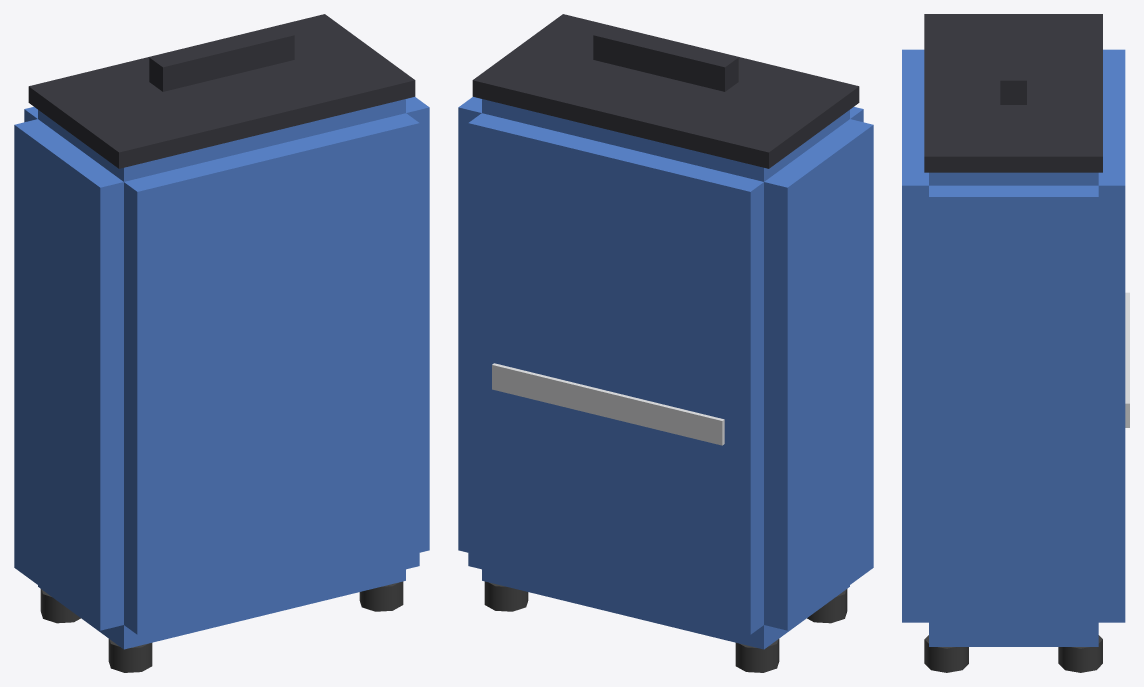
The model's file is suitcase_blue.glb.
3 renders of one model, left to right at view 1: azimuth 30°, elevation 25°; view 2: azimuth 150°, elevation 25°; view 3: azimuth 270°, elevation 25°, orthographic.
Parts seen in each view (by area): view 1: suitcase_blue; view 2: suitcase_blue; view 3: suitcase_blue.
Part boxes in pixels (bbox=[...]): suitcase_blue: bbox=[14, 14, 429, 672]; suitcase_blue: bbox=[458, 14, 873, 672]; suitcase_blue: bbox=[902, 14, 1129, 672].
Bounding box in the file's own units: 0.42 × 0.685 × 0.255.
